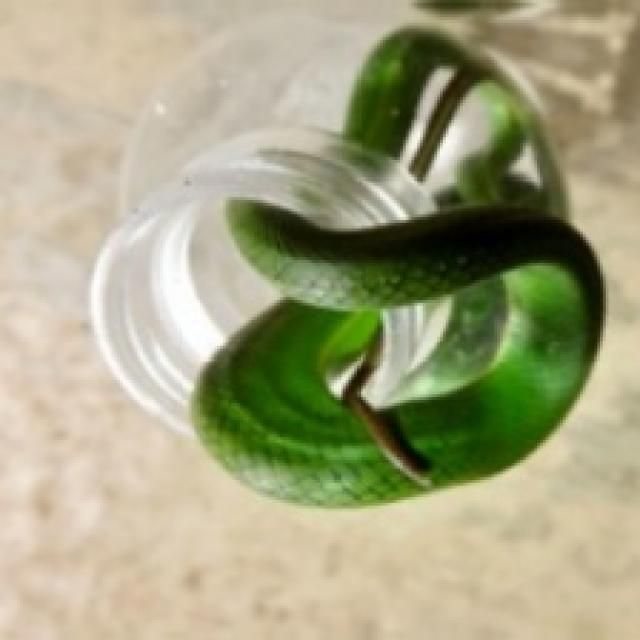red-tailed green ratsnake: (191, 26, 600, 503)
